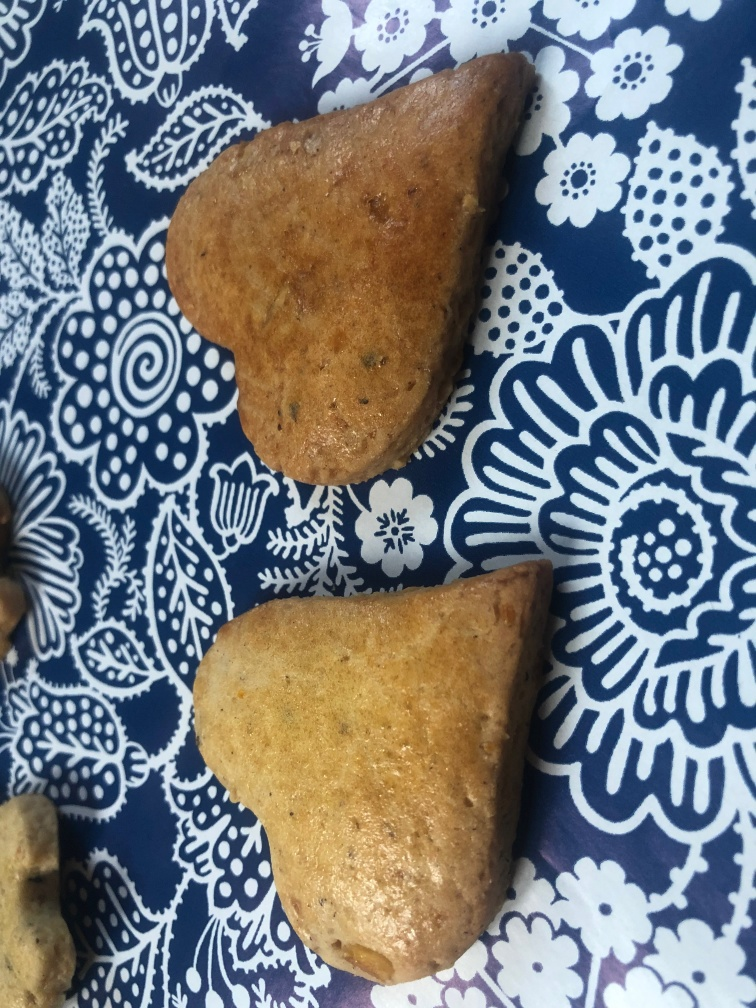heart: (163, 47, 547, 493), (186, 551, 559, 985)
